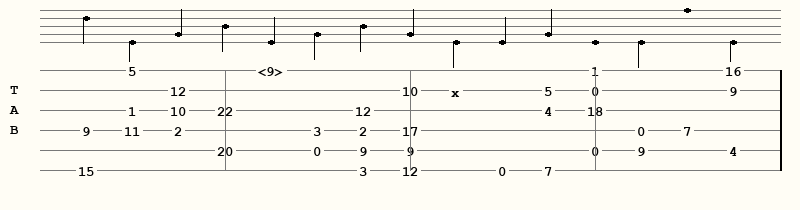0: (313, 144, 325, 157), (498, 164, 510, 177), (591, 84, 603, 97), (591, 144, 603, 157), (637, 124, 649, 137)
1: (128, 104, 140, 117), (591, 64, 603, 77)
10: (170, 104, 190, 117), (402, 84, 422, 97)
11: (124, 124, 144, 137)
12: (170, 84, 190, 97), (355, 104, 375, 117), (402, 164, 422, 177)
15: (78, 164, 98, 177)
16: (725, 64, 745, 77)
17: (402, 124, 422, 137)
18: (587, 104, 607, 117)
2: (174, 124, 186, 137), (359, 124, 371, 137)
20: (217, 144, 237, 157)
22: (217, 104, 237, 117)
3: (313, 124, 325, 137), (359, 164, 371, 177)
4: (544, 104, 556, 117), (729, 144, 741, 157)
5: (128, 64, 140, 77), (544, 84, 556, 97)
7: (544, 164, 556, 177), (683, 124, 695, 137)
9: (82, 124, 94, 137), (359, 144, 371, 157), (406, 144, 418, 157), (637, 144, 649, 157), (729, 84, 741, 97)
harmonic: (258, 64, 288, 77)
x: (451, 85, 464, 95)
